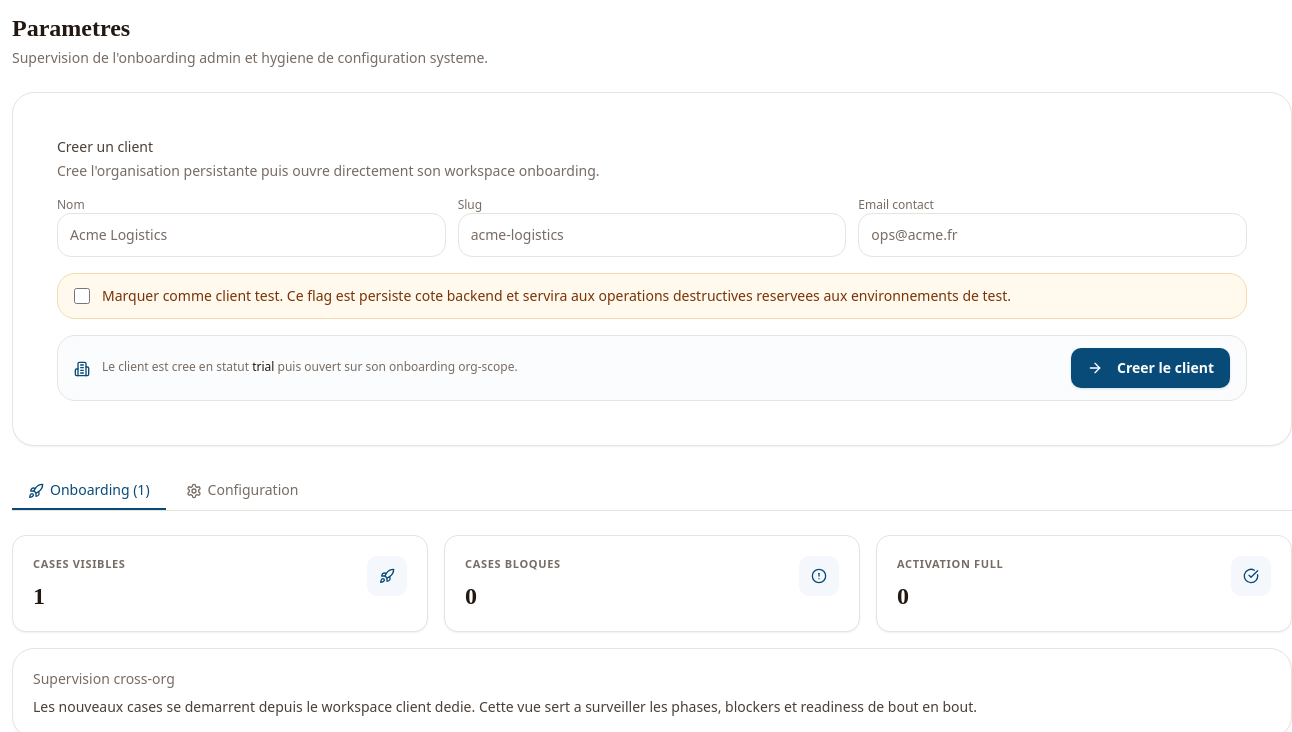
Scenario: restructured admin pages › ParametresPage switches to config section and shows all-configured
Click the button "Configuration".
click(242, 490)  # box [170, 470, 314, 510]
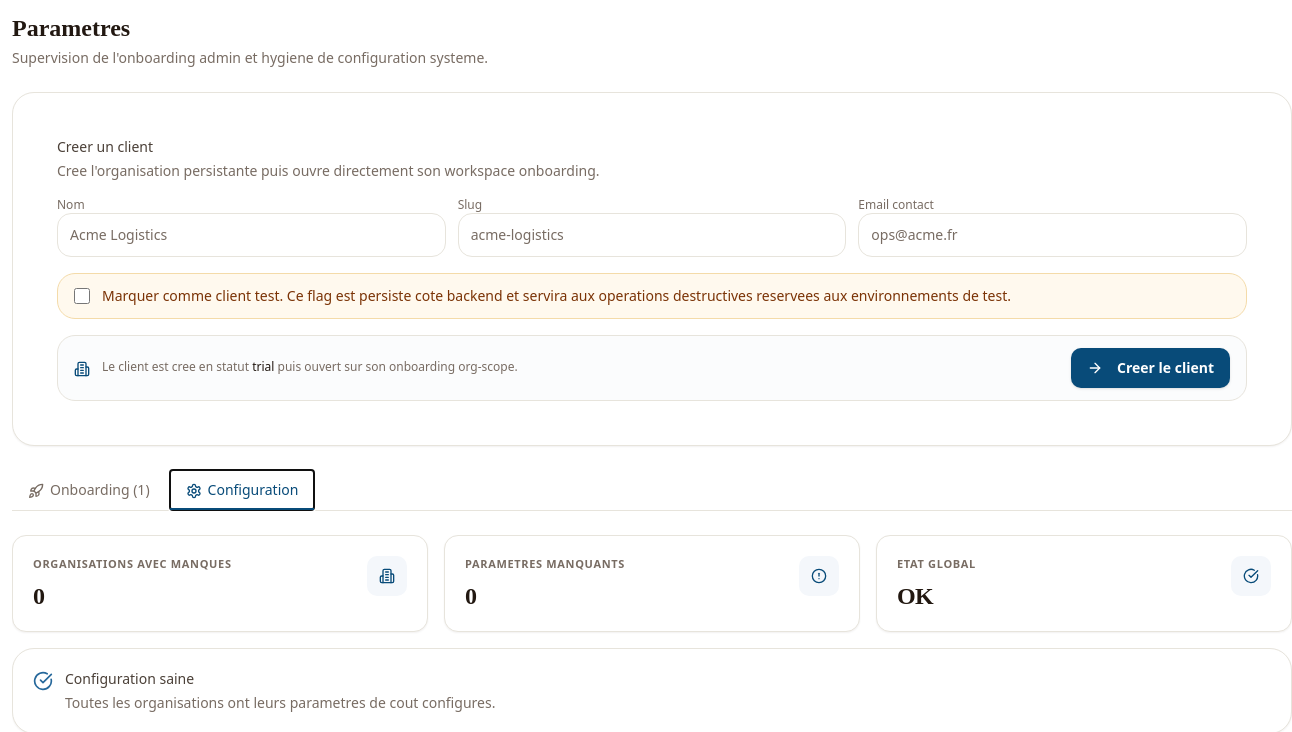
Now the text "Toutes les organisations ont leurs parametres de cout configures." is shown, box [65, 692, 495, 712]
